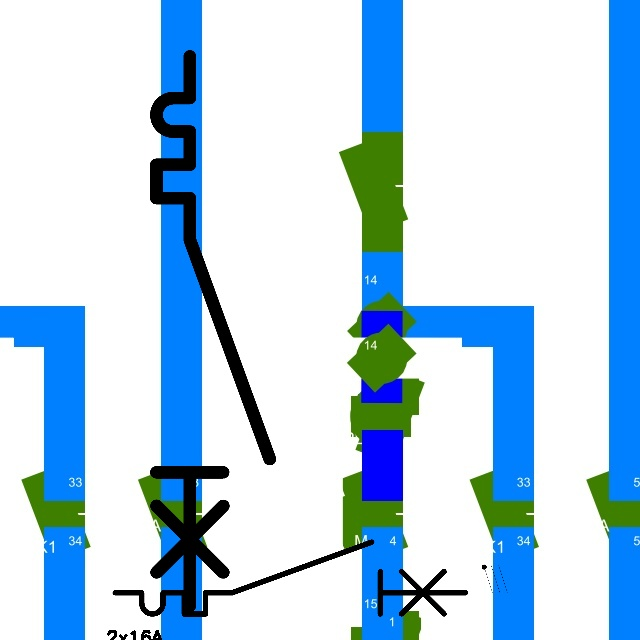interruptor_termomagnetico: (142, 42, 283, 620), (106, 533, 475, 623)
